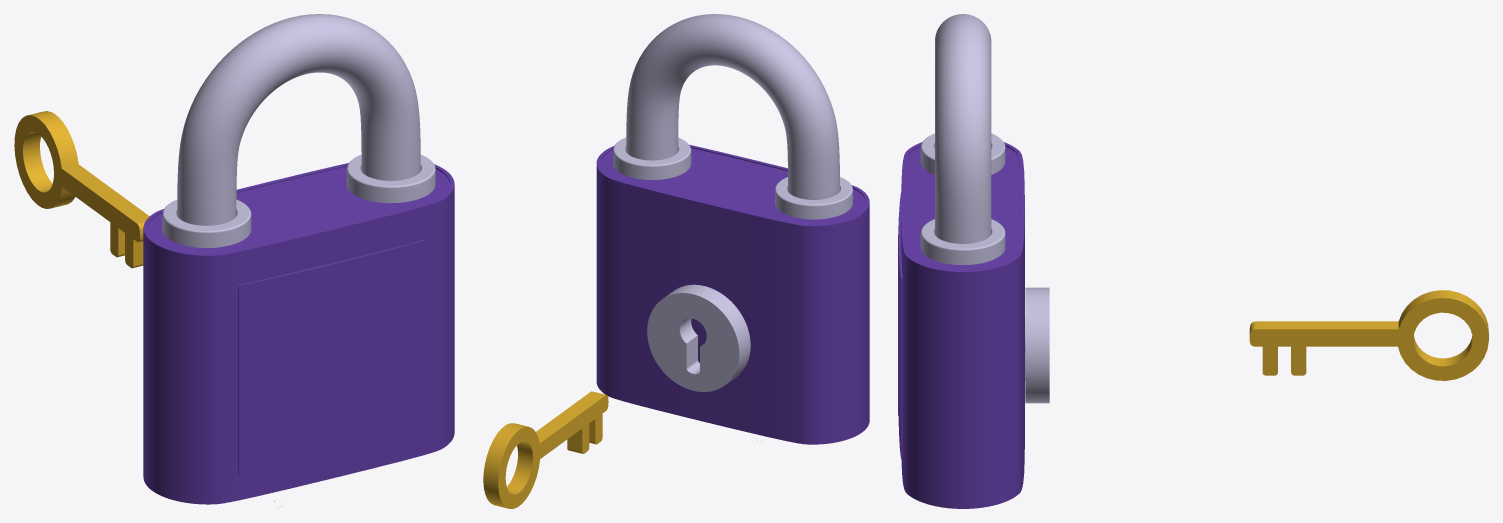
File: candadoLlave.fbx
The picture shows the model from 3 angles, left to right: view 1: azimuth 30°, elevation 25°; view 2: azimuth 150°, elevation 25°; view 3: azimuth 270°, elevation 25°; orthographic projection. The views are drawn at different scales.
Parts seen in each view (by area): view 1: polySurface4, polySurface8, polySurface6, polySurface7, polySurface3, pPipe1, polySurface10, polySurface9; view 2: polySurface4, polySurface8, pCylinder4, polySurface3, pPipe1, polySurface9, polySurface10; view 3: polySurface4, polySurface8, pPipe1, polySurface3, pCylinder4, polySurface9, polySurface7, polySurface10.
Boxes of the visible parts, box(x1,y1,x2,y2) form: polySurface4: box(143, 163, 454, 504); polySurface8: box(177, 14, 420, 225); polySurface6: box(238, 263, 332, 474); polySurface7: box(331, 240, 424, 453); polySurface3: box(147, 166, 450, 253); pPipe1: box(14, 111, 149, 268); polySurface10: box(162, 199, 251, 247); polySurface9: box(346, 154, 435, 203); polySurface4: box(596, 144, 869, 444); polySurface8: box(626, 14, 839, 199); pCylinder4: box(647, 284, 750, 391); polySurface3: box(600, 148, 865, 224); pPipe1: box(483, 391, 608, 508); polySurface9: box(613, 137, 691, 179); polySurface10: box(775, 177, 852, 219); polySurface4: box(901, 142, 1024, 508); polySurface8: box(935, 14, 991, 243); pPipe1: box(1249, 290, 1488, 380); polySurface3: box(905, 146, 1020, 270); pCylinder4: box(1025, 287, 1049, 403); polySurface9: box(920, 219, 1005, 264); polySurface7: box(898, 235, 902, 458); polySurface10: box(920, 133, 1005, 174).
Bounding box in the file's own units: 30409 × 47418 × 55612.
